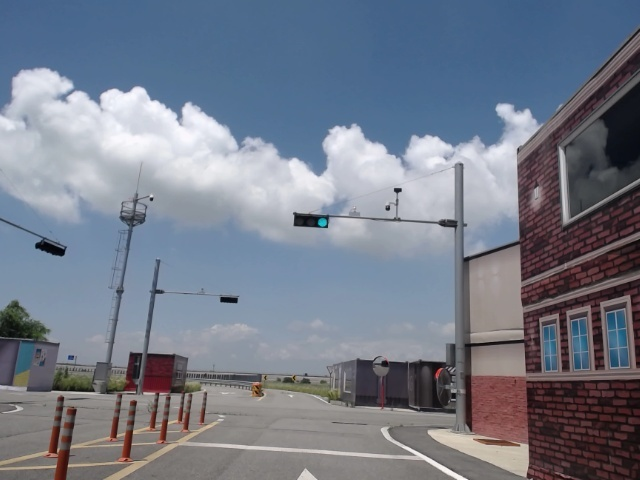green_3: (296, 214, 329, 226)
